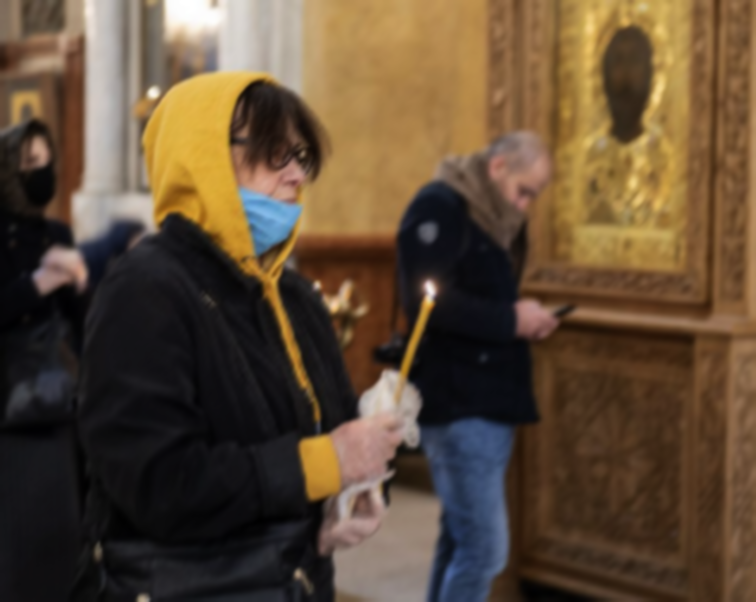mask_weared_incorrect: (147, 72, 317, 257)
